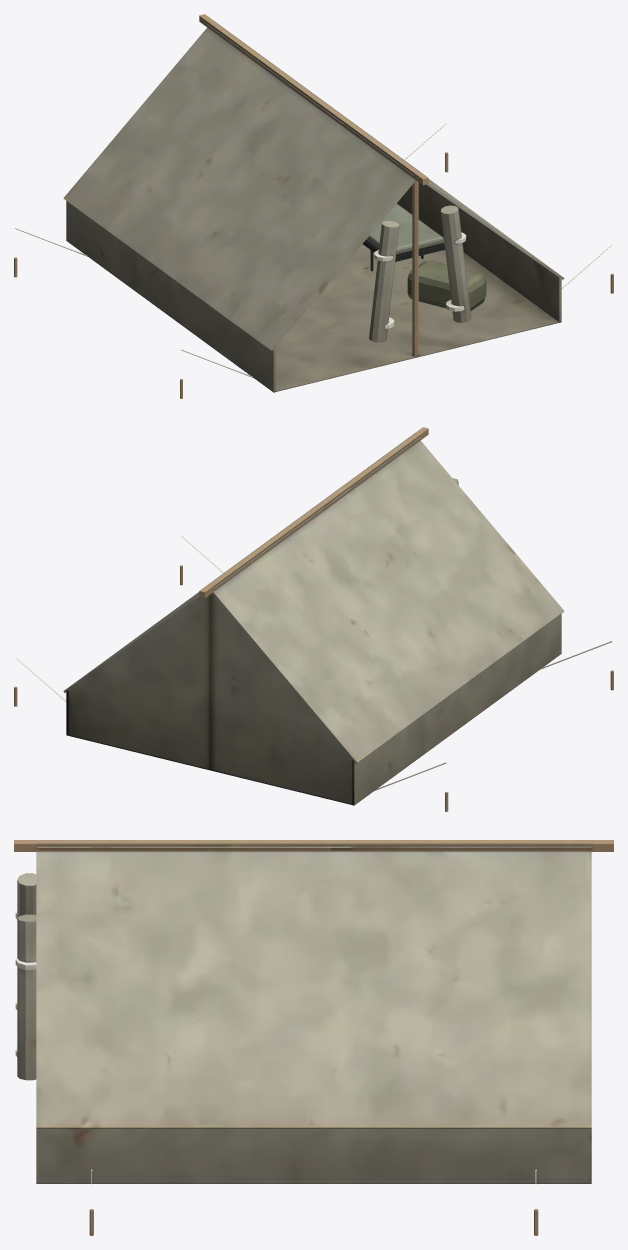
File: d_tent.glb
3 views of the same model, one above another, from view 1: azimuth 30°, elevation 25°; view 2: azimuth 150°, elevation 25°; view 3: azimuth 270°, elevation 25° (orthographic). The views are drawn at different scales.
Parts seen in each view (by area): view 1: BldT_Roof, BldT_Shell, BldT_Interior; view 2: BldT_Roof, BldT_Shell; view 3: BldT_Roof, BldT_Shell.
Boxes of the visible parts, x1,y1,x2,y2 form: BldT_Roof: (63, 14, 564, 350); BldT_Shell: (14, 123, 613, 398); BldT_Interior: (363, 203, 486, 310); BldT_Roof: (63, 427, 564, 763); BldT_Shell: (14, 478, 613, 811); BldT_Roof: (14, 840, 613, 1128); BldT_Shell: (15, 873, 591, 1235).
Bounding box in the file's own units: 6.03 × 2.51 × 5.4.
Materials: 3 (3 with a texture image).
